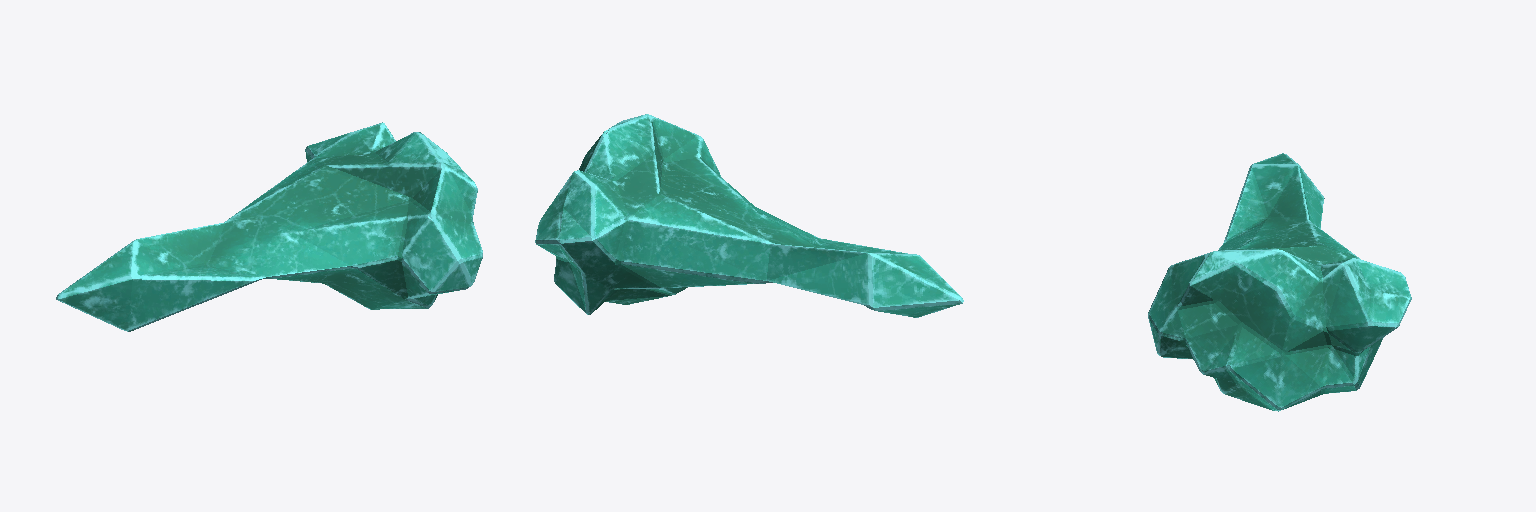
3 renders of one model, left to right at view 1: azimuth 30°, elevation 25°; view 2: azimuth 150°, elevation 25°; view 3: azimuth 270°, elevation 25°, orthographic.
Parts seen in each view (by area): view 1: diamond_surf_shelf; view 2: diamond_surf_shelf; view 3: diamond_surf_shelf.
Boxes of the visible parts, <box> form: diamond_surf_shelf: <box>56,122,482,331</box>; diamond_surf_shelf: <box>535,114,963,317</box>; diamond_surf_shelf: <box>1148,153,1411,411</box>.
Bounding box in the file's own units: 1.55 × 0.6398 × 0.9007.
1 materials, 1 textured.